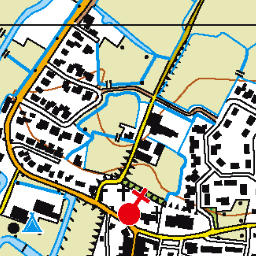church: (117, 185, 150, 227)
